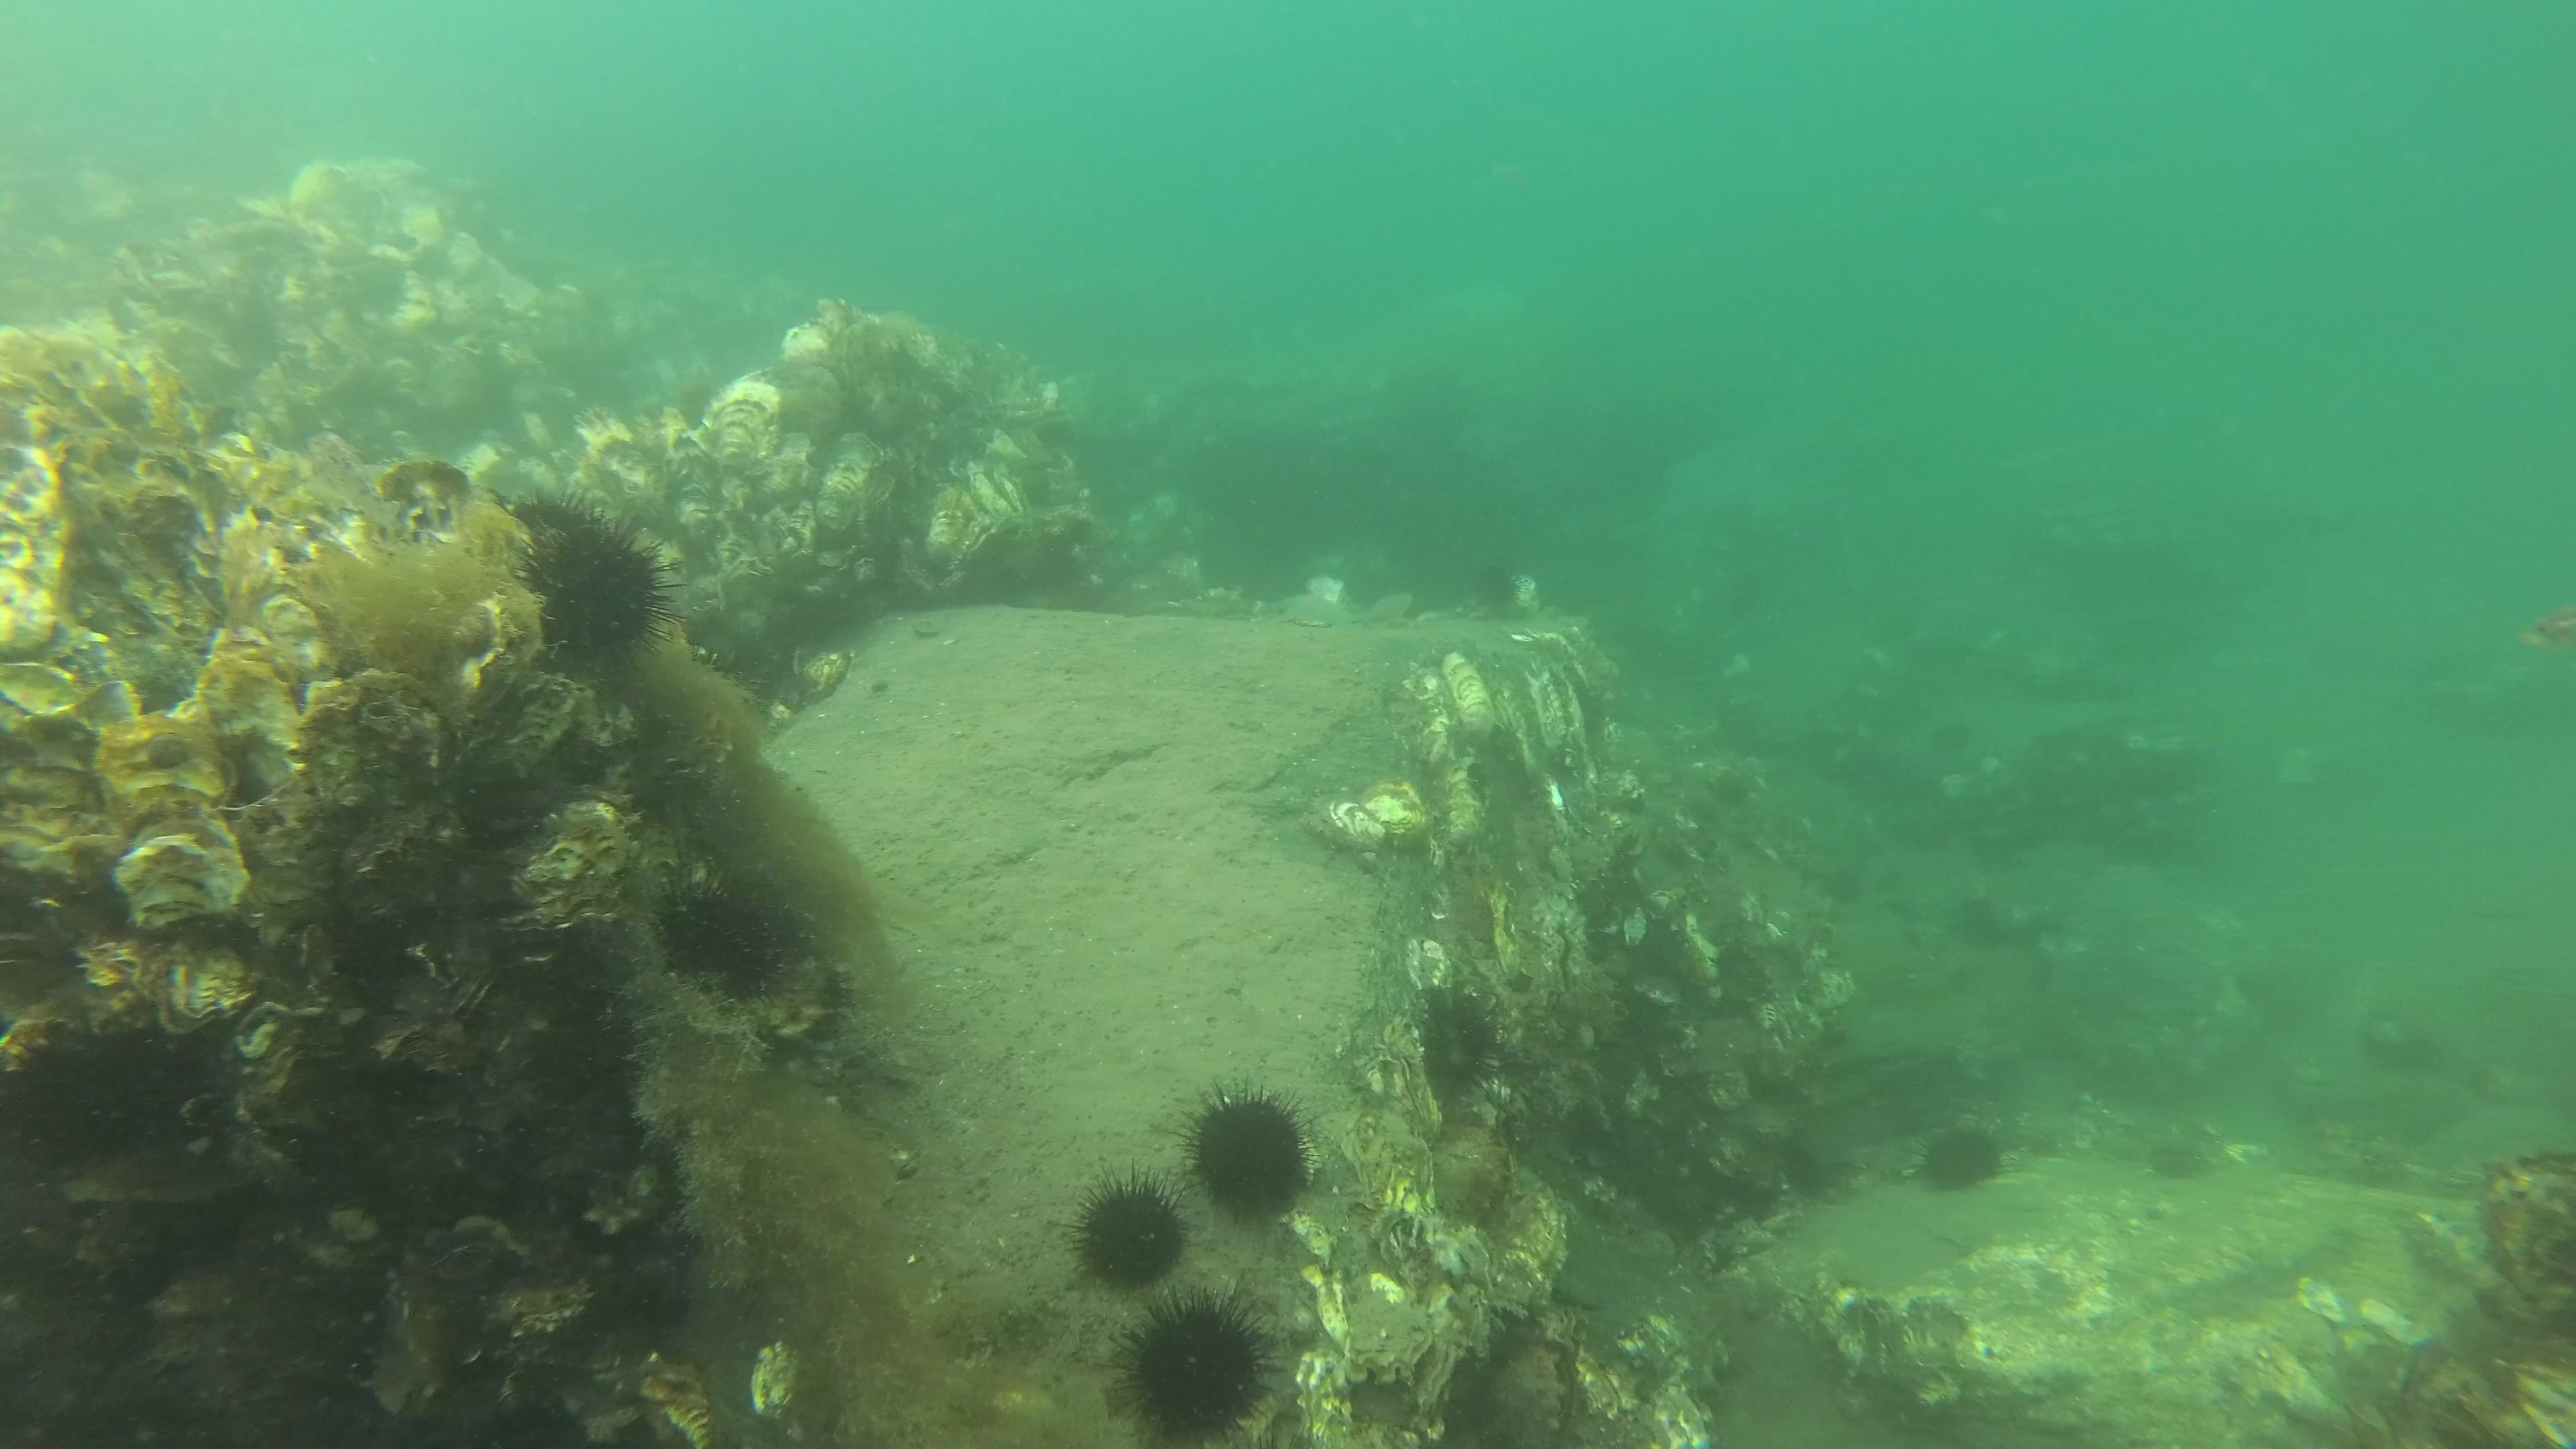echinus: (508, 497, 678, 679), (1118, 1286, 1276, 1447), (648, 867, 809, 1010), (1187, 1077, 1323, 1233), (1067, 1171, 1192, 1297), (1407, 994, 1511, 1109), (1902, 1115, 2017, 1201), (1923, 718, 1973, 757)
